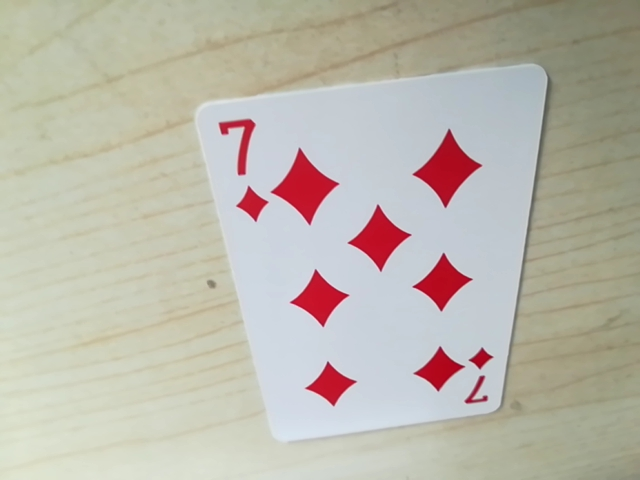fk 7: (207, 107, 268, 228), (455, 343, 505, 411)
